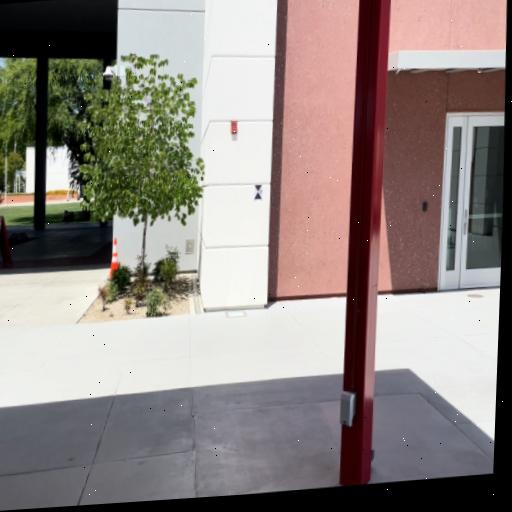target9: (253, 185, 263, 201)
